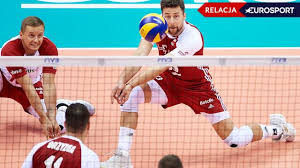ball: (138, 12, 168, 42)
